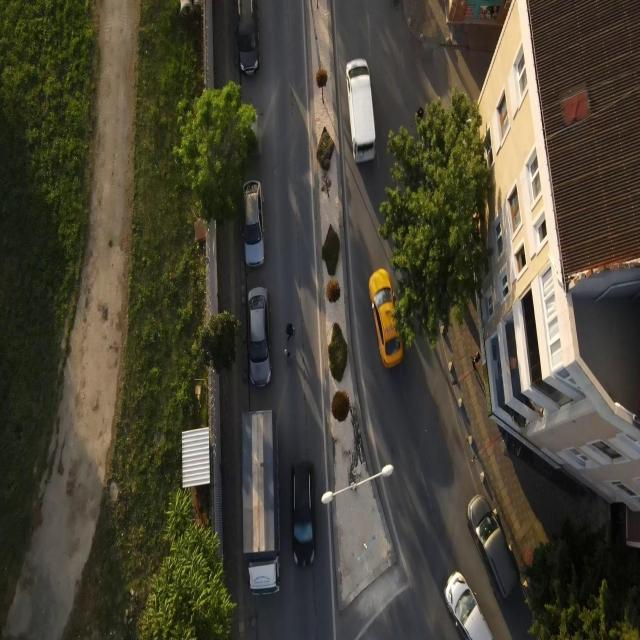p3rson: (470, 350, 481, 372), (285, 321, 295, 344), (284, 348, 294, 366), (417, 106, 424, 120)
